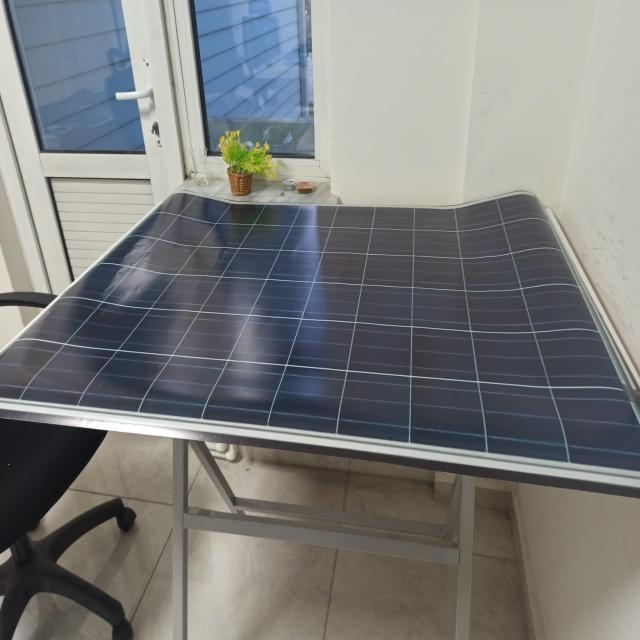no faulty: (2, 191, 640, 488)
